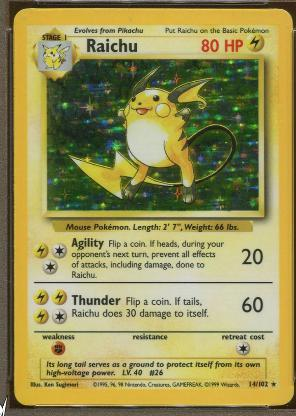Card: (11, 7, 293, 407)
